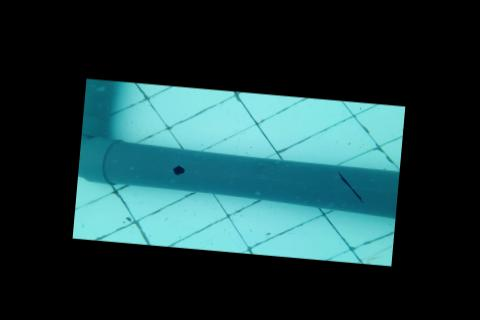kebocoran: (170, 163, 187, 176)
keretakan: (332, 169, 369, 204)
